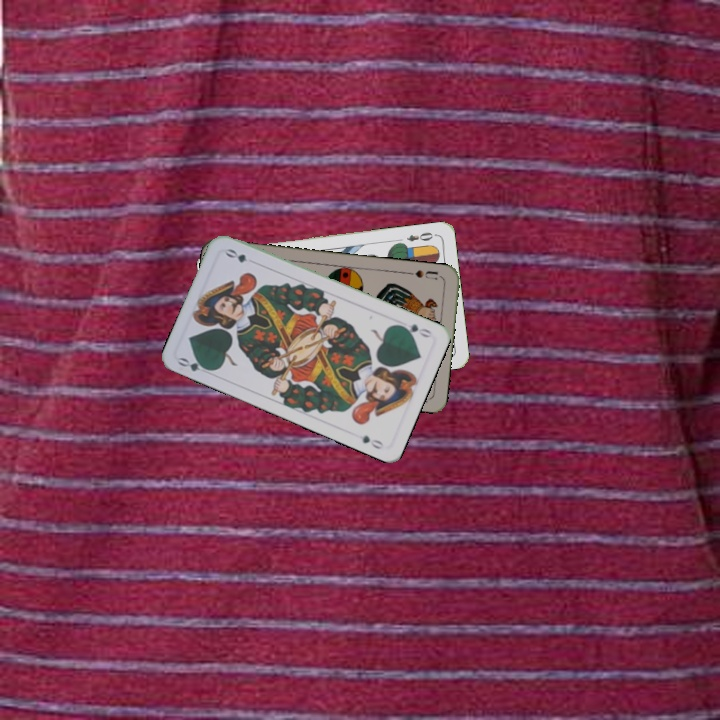EO: (403, 228, 439, 244)
GO: (174, 353, 215, 377), (395, 320, 434, 340)
SU: (404, 266, 441, 282)
